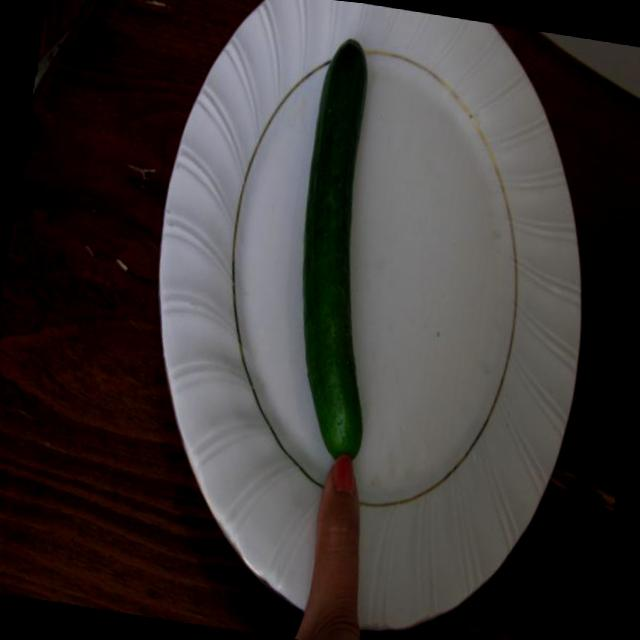Cucumber: (260, 18, 440, 460)
Finger: (300, 452, 388, 606)
